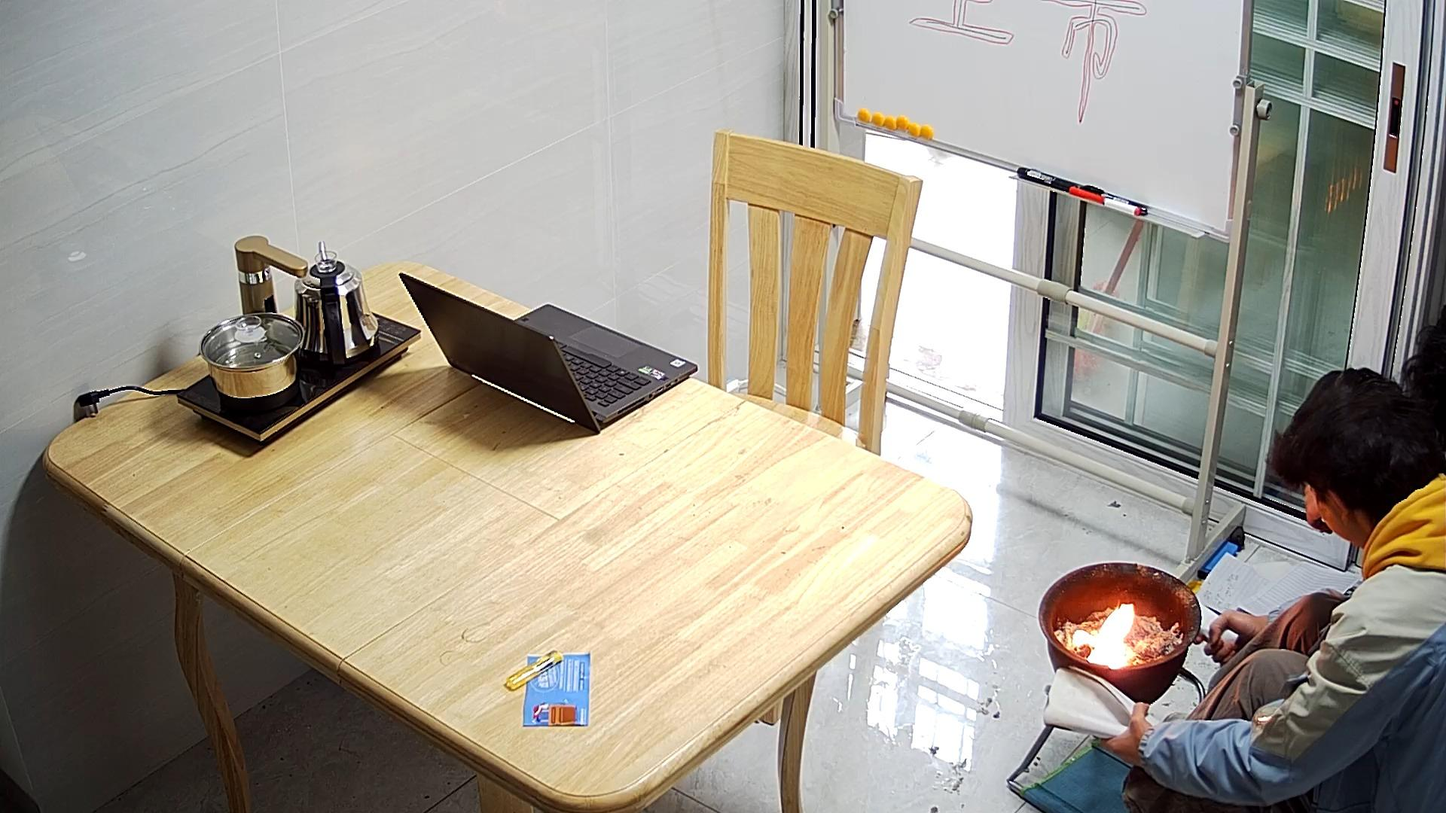fire: (1091, 604, 1133, 659)
